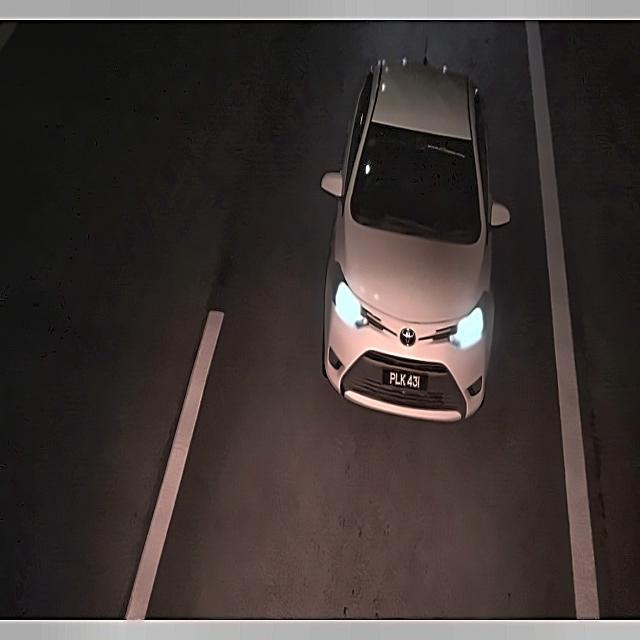car: (378, 358, 433, 398)
